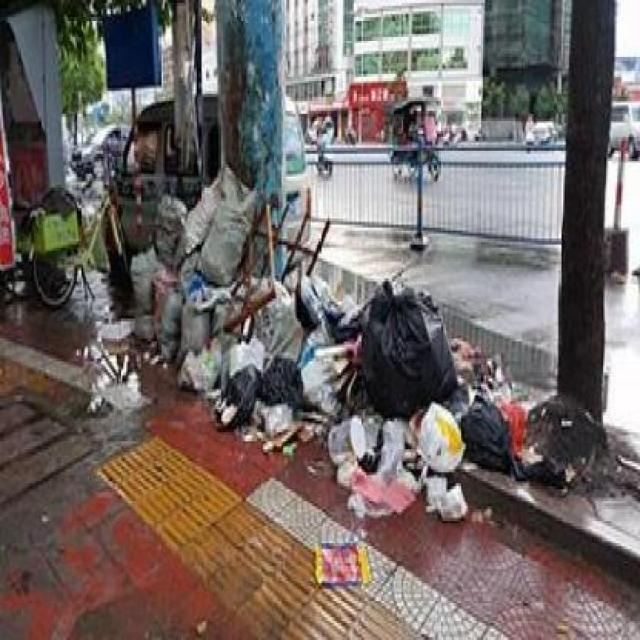garbage: (235, 279, 480, 490), (148, 186, 287, 428)
